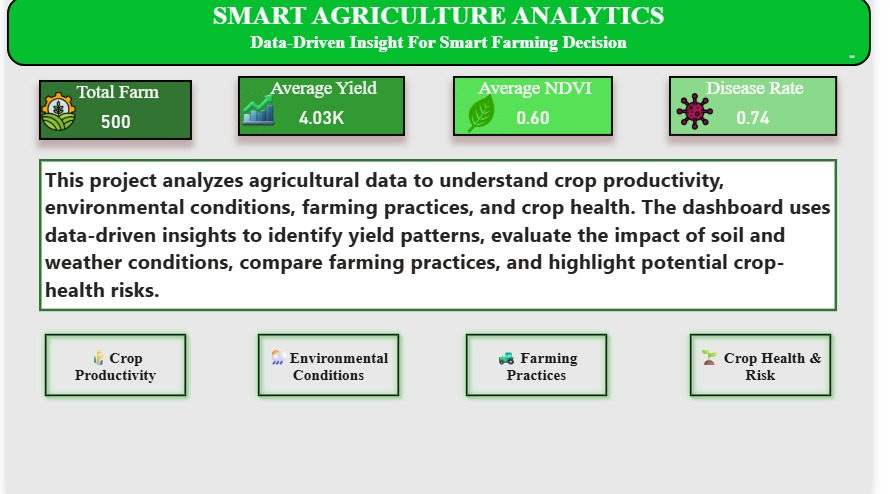

Layout of this report page (visuals, bound fields, positions):
{"tool":"powerbi","page":{"name":"Executive Dashboard","canvas":[1356,785],"ordinal":0},"visuals":[{"type":"shape","box":[0,0,1356.5,109.9],"z":0},{"type":"textbox","title":"SMART AGRICULTURE ANALYTICS ","box":[18.8,6.3,1317.2,95.8],"z":1000},{"type":"card","title":"Total Farm","fields":{"Values":["Smart_Farming_Crop_Yield_2024 (1).Total Farms"]},"box":[50.2,131.9,240.2,94.2],"z":2000},{"type":"image","box":[50.2,150.7,61.2,61.2],"z":3000},{"type":"card","title":"Average Yield","fields":{"Values":["Smart_Farming_Crop_Yield_2024 (1).Average Yield"]},"box":[362.7,125.6,262.2,94.2],"z":4000},{"type":"image","box":[345.4,142.9,98.9,72.2],"z":5000},{"type":"card","title":"Average NDVI","fields":{"Values":["Smart_Farming_Crop_Yield_2024 (1).Average NDVI"]},"box":[700.2,125.6,251.2,94.2],"z":6000},{"type":"image","box":[689.2,146,109.9,73.8],"z":7000},{"type":"card","title":"Disease Rate","fields":{"Values":["Smart_Farming_Crop_Yield_2024 (1).Disease Rate"]},"box":[1039.3,125.6,263.8,94.2],"z":8000},{"type":"image","box":[1039.3,150.7,81.6,61.2],"z":9000},{"type":"textbox","box":[50.2,255.9,1252.9,238.6],"z":10000},{"type":"actionButton","box":[50.2,521.2,240.2,116.2],"z":11000},{"type":"actionButton","box":[384.7,521.2,240.2,116.2],"z":12000},{"type":"actionButton","box":[711.2,521.2,240.2,116.2],"z":13000},{"type":"actionButton","box":[1062.9,521.2,240.2,116.2],"z":14000}]}

Visuals, with their boxes on the page's 1356x785 design canvas (x1, y1, x2, y2). These are canvas units, not pixel positions in the 890x494 screenshot, which may show the page scaled, cropped or inside an application window:
shape: l=0, t=0, r=1356, b=110
"SMART AGRICULTURE ANALYTICS " textbox: l=19, t=6, r=1336, b=102
"Total Farm" card: l=50, t=132, r=290, b=226
image: l=50, t=151, r=111, b=212
"Average Yield" card: l=363, t=126, r=625, b=220
image: l=345, t=143, r=444, b=215
"Average NDVI" card: l=700, t=126, r=951, b=220
image: l=689, t=146, r=799, b=220
"Disease Rate" card: l=1039, t=126, r=1303, b=220
image: l=1039, t=151, r=1121, b=212
textbox: l=50, t=256, r=1303, b=494
actionButton: l=50, t=521, r=290, b=637
actionButton: l=385, t=521, r=625, b=637
actionButton: l=711, t=521, r=951, b=637
actionButton: l=1063, t=521, r=1303, b=637
